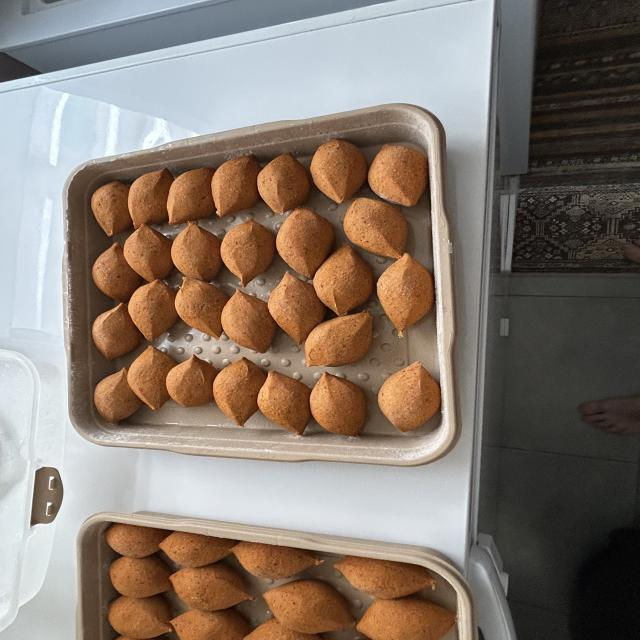kobi: (378, 361, 448, 430), (378, 249, 433, 335), (343, 599, 457, 638), (254, 362, 317, 432), (262, 582, 352, 630), (312, 240, 369, 314), (342, 196, 411, 257), (210, 354, 266, 429), (338, 560, 447, 598), (304, 309, 376, 366), (215, 217, 273, 287), (173, 270, 230, 340), (268, 267, 317, 346), (370, 138, 424, 206), (232, 540, 328, 578), (276, 209, 330, 276), (312, 135, 364, 204), (164, 568, 253, 607), (308, 372, 363, 435), (127, 340, 177, 408), (92, 595, 167, 639), (258, 152, 310, 215), (161, 524, 237, 566), (207, 151, 256, 215), (225, 288, 272, 354), (165, 346, 215, 406), (124, 222, 168, 289), (95, 300, 141, 361), (129, 280, 176, 339), (174, 223, 218, 283), (94, 560, 166, 596), (126, 165, 167, 228), (91, 240, 132, 302), (168, 165, 210, 224), (96, 361, 134, 424), (85, 185, 131, 236), (168, 609, 243, 640), (242, 619, 330, 640), (108, 525, 162, 557)
